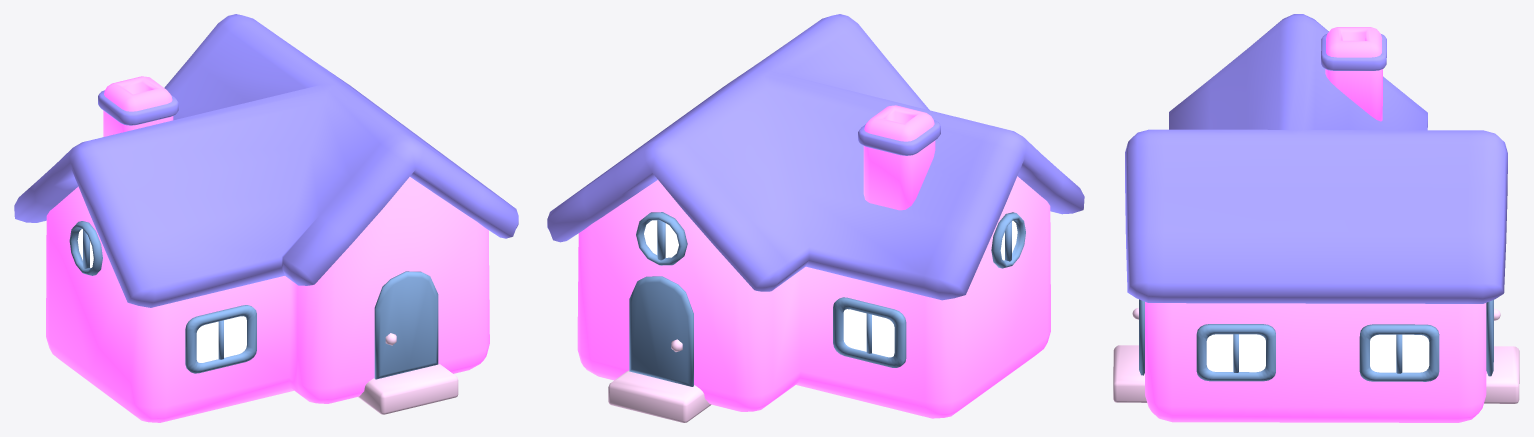
File: house.gltf
The picture shows the model from 3 angles, left to right: view 1: azimuth 30°, elevation 25°; view 2: azimuth 150°, elevation 25°; view 3: azimuth 270°, elevation 25°; orthographic projection. The views are drawn at different scales.
Visible parts, largest first — view 1: House; view 2: House; view 3: House.
Boxes of the visible parts, box(x1,y1,x2,y2) form: House: box(14, 14, 518, 422); House: box(547, 14, 1084, 422); House: box(1113, 14, 1519, 422).
Size of the model in its own units: 4.49 by 3.14 by 4.26.
